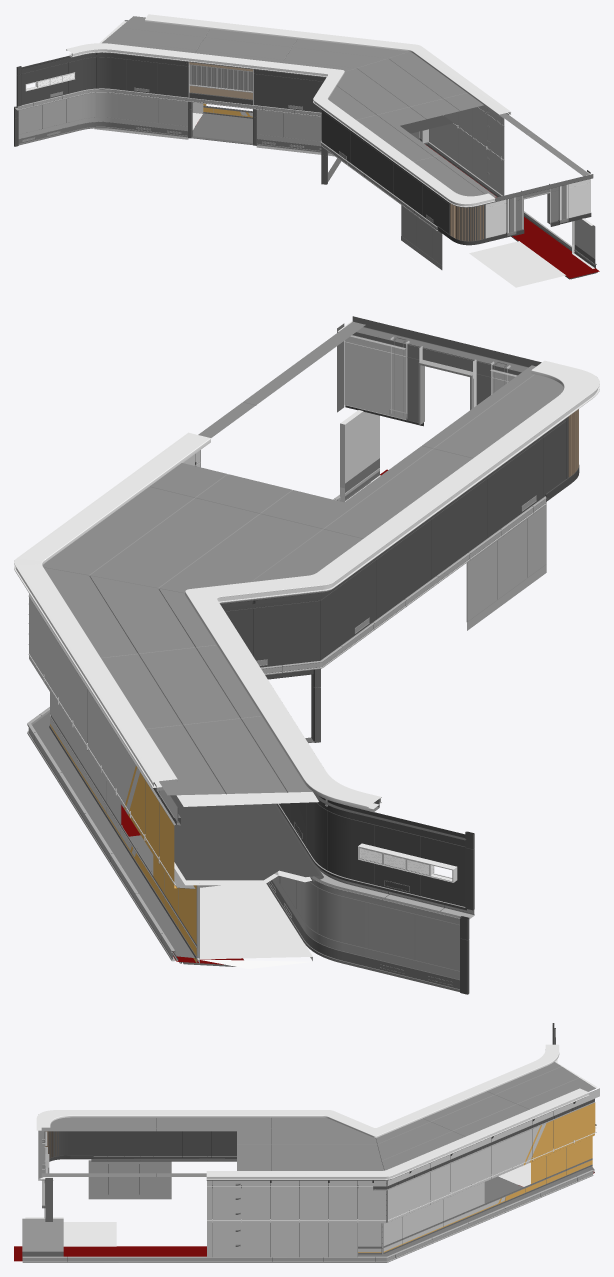
3 renders of one model, top to bottom at view 1: azimuth 30°, elevation 25°; view 2: azimuth 150°, elevation 25°; view 3: azimuth 270°, elevation 25°, orthographic. The views are drawn at different scales.
Visible parts, largest first — view 1: SM_H_Building_FutureTech_Dock_06a; view 2: SM_H_Building_FutureTech_Dock_06a; view 3: SM_H_Building_FutureTech_Dock_06a.
Boxes of the visible parts, x1,y1,x2,y2 form: SM_H_Building_FutureTech_Dock_06a: [14, 14, 599, 287]; SM_H_Building_FutureTech_Dock_06a: [14, 316, 599, 994]; SM_H_Building_FutureTech_Dock_06a: [14, 1023, 599, 1262].
Bounding box in the file's own units: 2254 × 1432 × 387.
